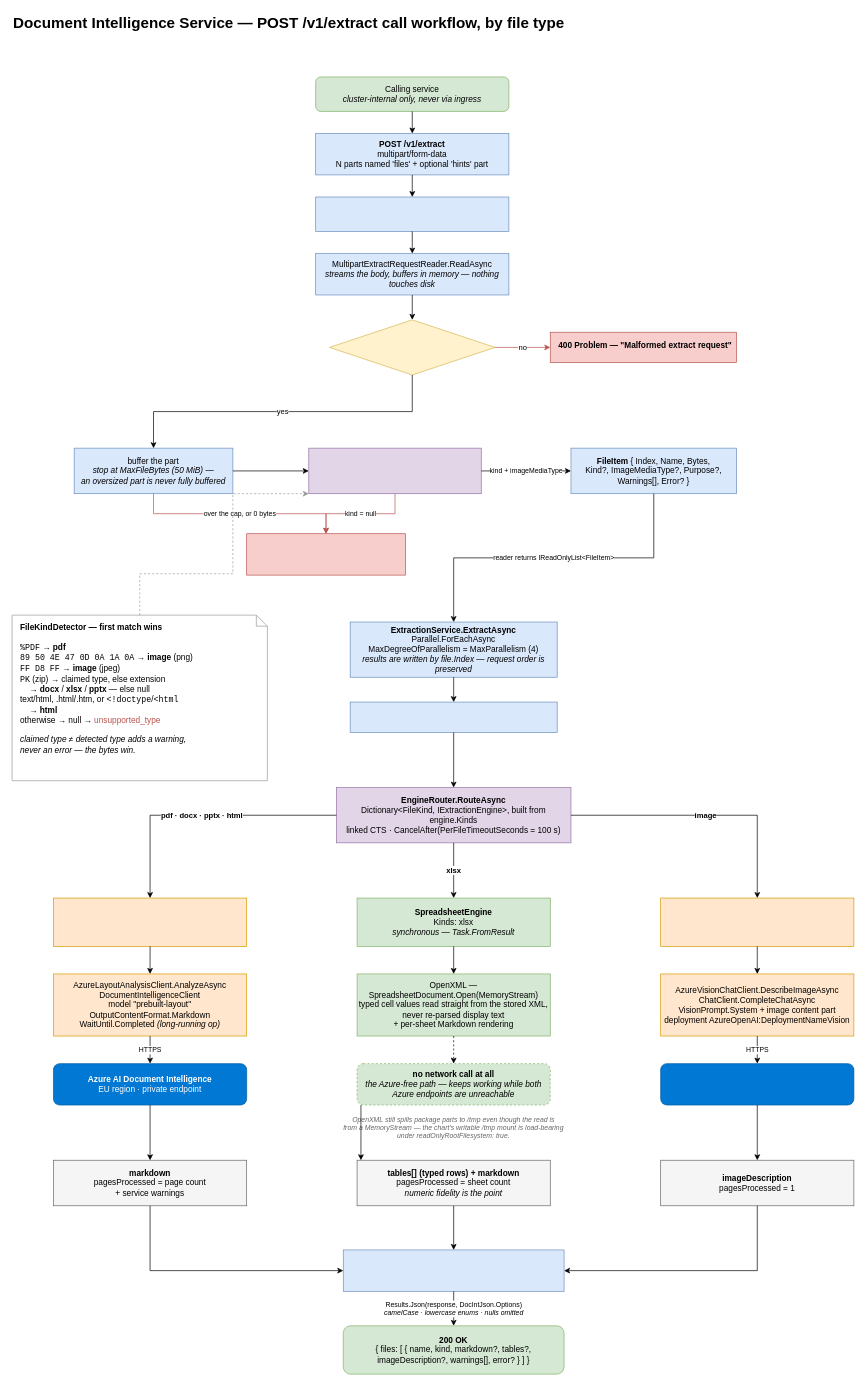
Image size: 866x1386. Some labels were removed from this diagram. The shapes that lost their labels are listed below. From the top down, each one's box as (x1, y1, x2, y2) in pixels, then its label:
(315, 196, 509, 231): ExtractEndpoint.Handle
(329, 319, 495, 375): request itself well-formed?
(308, 447, 481, 494): FileKindDetector.Detect magic bytes → claimed content-type → extension
(246, 533, 405, 575): Error set here — no engine ever runs too_large · empty_file · unsupported_type
(349, 701, 557, 732): per file: Activity "docint.extract_file"
(53, 897, 247, 946): LayoutEngine Kinds: pdf · docx · pptx · html four kinds, one engine, one call
(660, 897, 854, 946): VisionEngine Kinds: image (png / jpeg) factual observations only
(660, 1063, 854, 1105): Azure OpenAI — Foundry utility model EU region · private endpoint
(343, 1249, 564, 1291): results[file.Index] = FileResult one entry per input file, in request order
